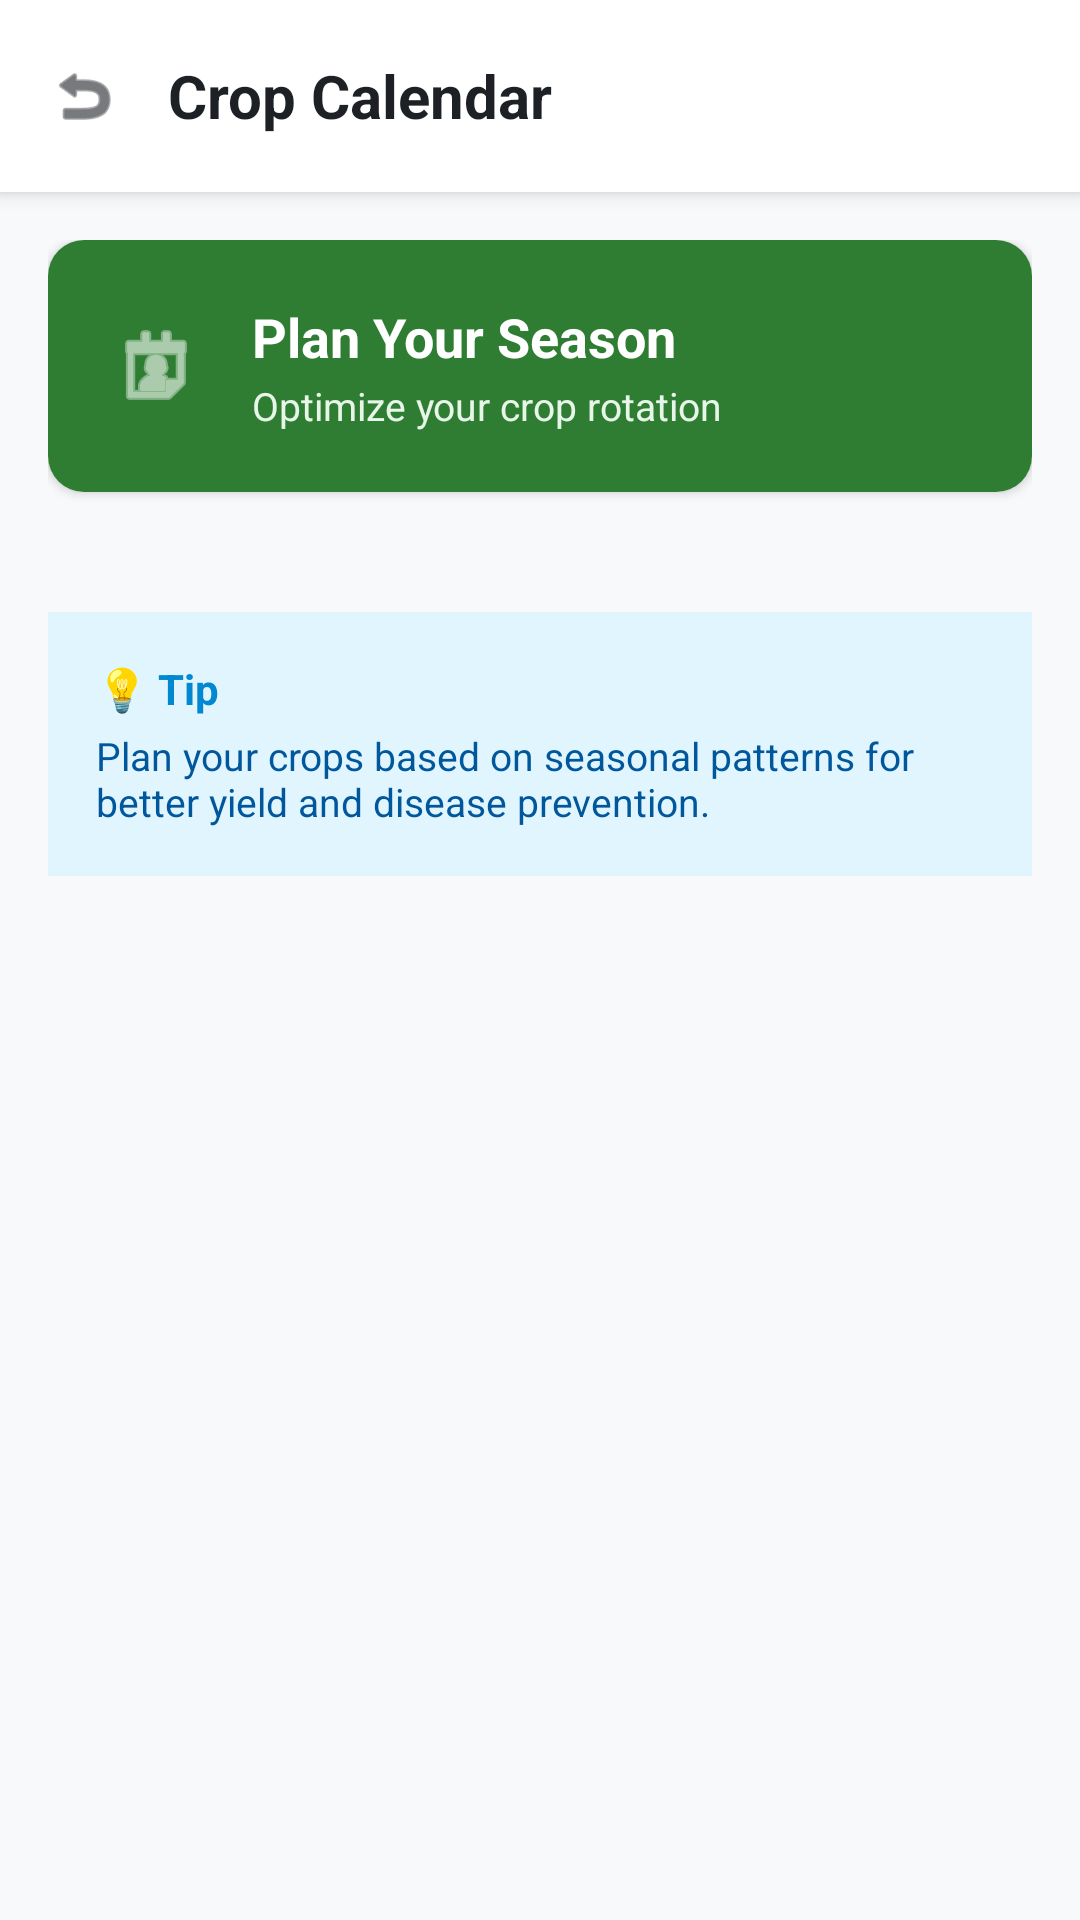

Point at icon controls on the screen. Image size 1080px×1920px, points as point (x, y).
calendar: point (156, 365)
revert: point (85, 96)
